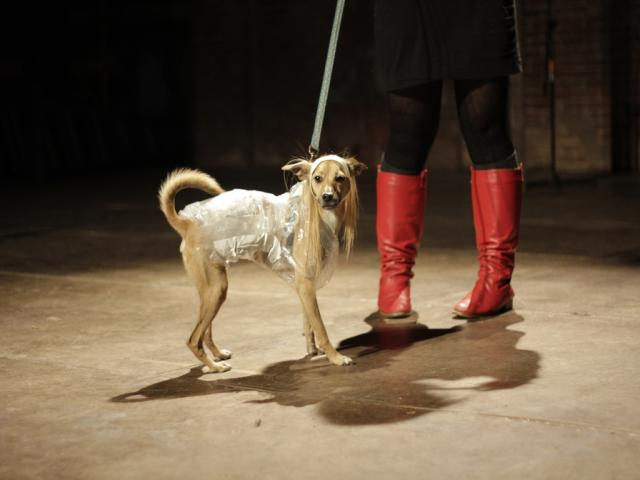Dog: (159, 140, 370, 373)
